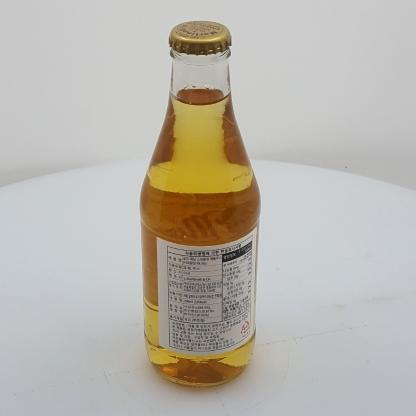------------------296ML: (139, 21, 261, 388)
